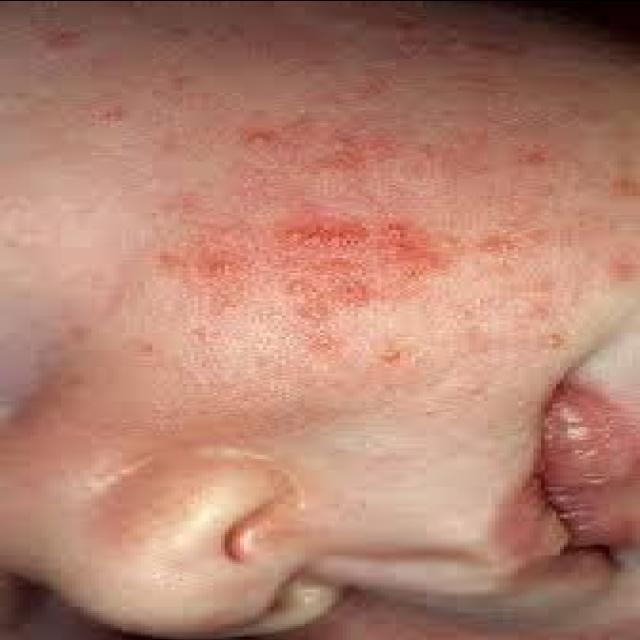Rosacea: (175, 193, 455, 321)
